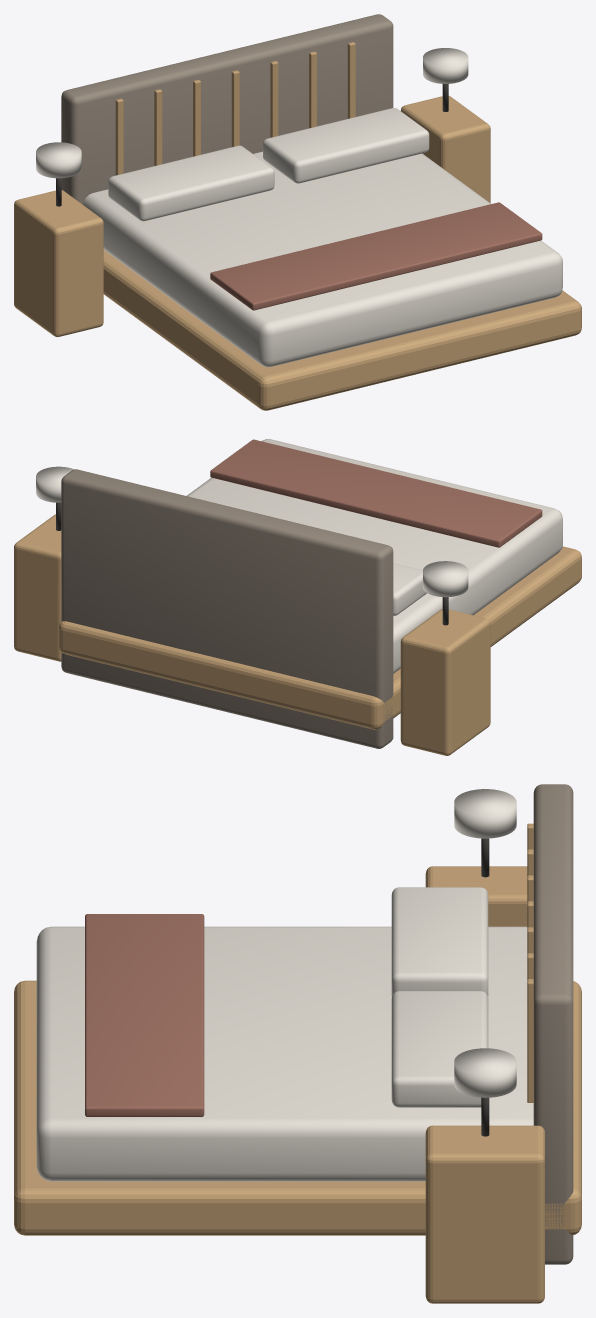
Rendered from double-bed.glb.
3 renders of one model, top to bottom at view 1: azimuth 30°, elevation 25°; view 2: azimuth 150°, elevation 25°; view 3: azimuth 270°, elevation 25°, orthographic. The views are drawn at different scales.
Visible parts, largest first — view 1: ACCENT mattress, CANONICAL headboard, CANONICAL bed frame, ACCENT runner, ACCENT bedside table, ACCENT pillow, ACCENT pillow.001, ACCENT bedside table.001, ACCENT bedside lamp shade, ACCENT bedside lamp shade.001, ACCENT oak headboard slat, ACCENT oak headboard slat.006 (+5 smaller); view 2: CANONICAL headboard, ACCENT mattress, CANONICAL bed frame, ACCENT runner, ACCENT bedside table, ACCENT bedside table.001, ACCENT bedside lamp shade, ACCENT pillow, ACCENT bedside lamp shade.001; view 3: ACCENT mattress, CANONICAL bed frame, ACCENT runner, ACCENT bedside table.001, CANONICAL headboard, ACCENT pillow, ACCENT pillow.001, ACCENT bedside table, ACCENT bedside lamp shade.001, ACCENT bedside lamp shade, ACCENT oak headboard slat.006.
Boxes of the visible parts, x1=… form: ACCENT mattress: x1=83, y1=151, x2=562, y2=367; CANONICAL headboard: x1=61, y1=14, x2=393, y2=204; CANONICAL bed frame: x1=103, y1=250, x2=581, y2=410; ACCENT runner: x1=210, y1=202, x2=542, y2=310; ACCENT bedside table: x1=14, y1=190, x2=103, y2=336; ACCENT pillow: x1=108, y1=145, x2=274, y2=221; ACCENT pillow.001: x1=263, y1=108, x2=429, y2=183; ACCENT bedside table.001: x1=401, y1=96, x2=490, y2=202; ACCENT bedside lamp shade: x1=36, y1=142, x2=81, y2=178; ACCENT bedside lamp shade.001: x1=423, y1=48, x2=468, y2=83; ACCENT oak headboard slat: x1=115, y1=98, x2=123, y2=175; ACCENT oak headboard slat.006: x1=347, y1=42, x2=355, y2=118; CANONICAL headboard: x1=61, y1=469, x2=393, y2=748; ACCENT mattress: x1=187, y1=439, x2=562, y2=673; CANONICAL bed frame: x1=59, y1=546, x2=581, y2=729; ACCENT runner: x1=210, y1=439, x2=542, y2=547; ACCENT bedside table: x1=400, y1=609, x2=490, y2=755; ACCENT bedside table.001: x1=14, y1=514, x2=61, y2=661; ACCENT bedside lamp shade: x1=423, y1=561, x2=468, y2=597; ACCENT pillow: x1=393, y1=563, x2=426, y2=615; ACCENT bedside lamp shade.001: x1=36, y1=466, x2=73, y2=502; ACCENT mattress: x1=36, y1=926, x2=533, y2=1181; CANONICAL bed frame: x1=14, y1=980, x2=581, y2=1235; ACCENT runner: x1=85, y1=914, x2=204, y2=1116; ACCENT bedside table.001: x1=425, y1=1125, x2=544, y2=1303; CANONICAL headboard: x1=533, y1=784, x2=573, y2=1264; ACCENT pillow: x1=391, y1=887, x2=488, y2=996; ACCENT pillow.001: x1=391, y1=991, x2=488, y2=1107; ACCENT bedside table: x1=425, y1=866, x2=527, y2=926; ACCENT bedside lamp shade.001: x1=454, y1=1048, x2=516, y2=1097; ACCENT bedside lamp shade: x1=454, y1=789, x2=516, y2=838; ACCENT oak headboard slat.006: x1=527, y1=979, x2=533, y2=1102.
Bounding box in the file's own units: 2.44 × 1.05 × 2.
